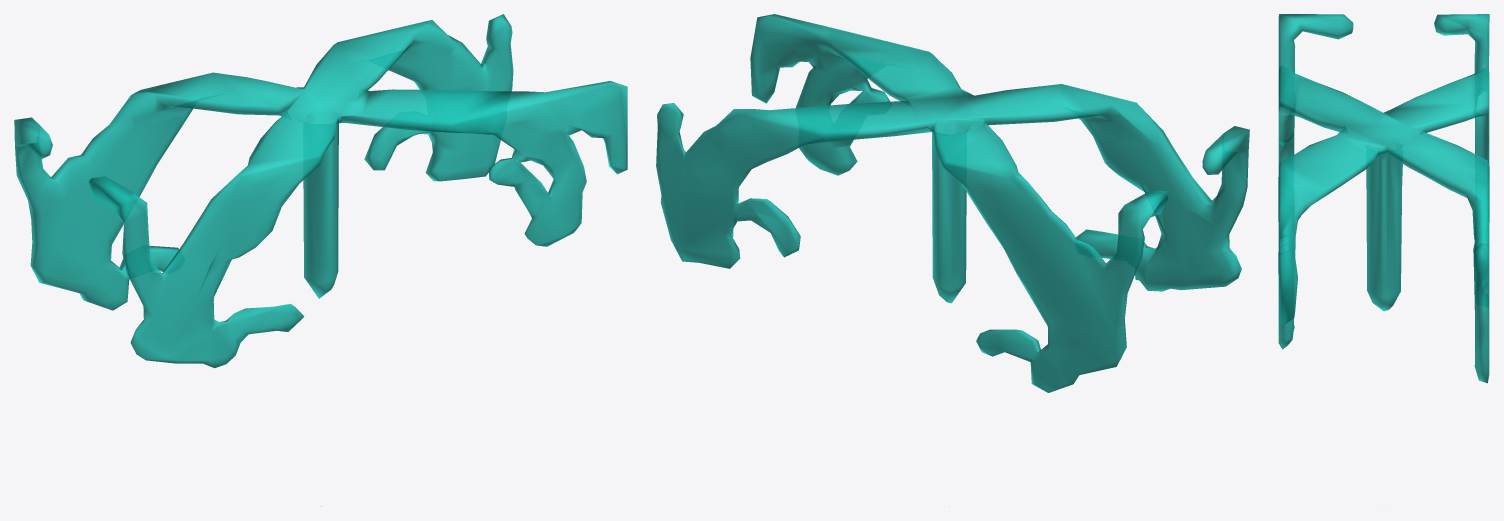
3 views of the same model, side by side, from view 1: azimuth 30°, elevation 25°; view 2: azimuth 150°, elevation 25°; view 3: azimuth 270°, elevation 25° (orthographic). The views are drawn at different scales.
Parts seen in each view (by area): view 1: Liquid_Domain; view 2: Liquid_Domain; view 3: Liquid_Domain.
Part boxes in pixels (bbox=[...]): Liquid_Domain: bbox=[14, 14, 627, 368]; Liquid_Domain: bbox=[656, 14, 1249, 392]; Liquid_Domain: bbox=[1278, 14, 1489, 383].
Bounding box in the file's own units: 883 × 683 × 344.
